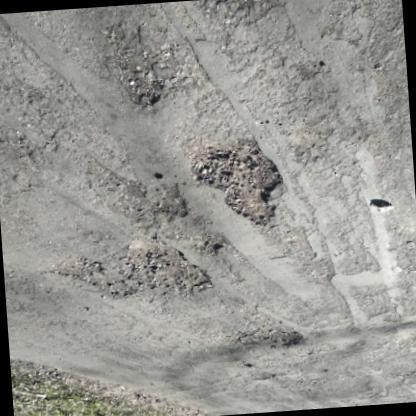pothole: (192, 132, 286, 227), (61, 240, 214, 298), (101, 29, 164, 108), (101, 178, 188, 225), (232, 311, 306, 347)
